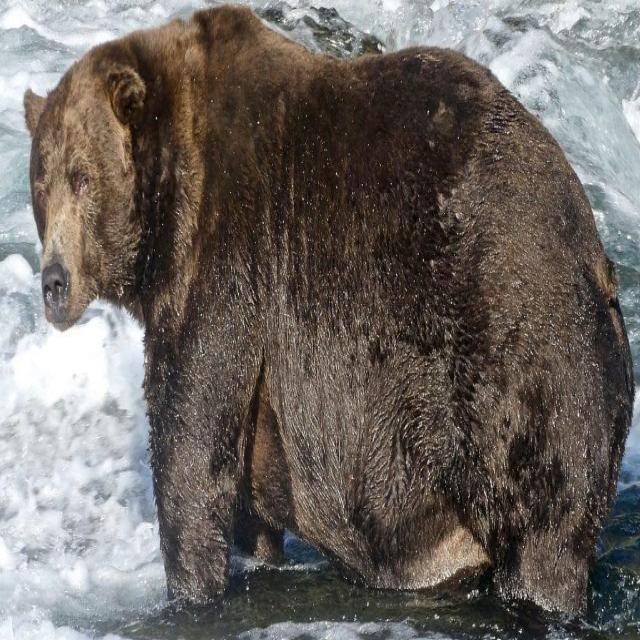Bear: (23, 6, 636, 626)
